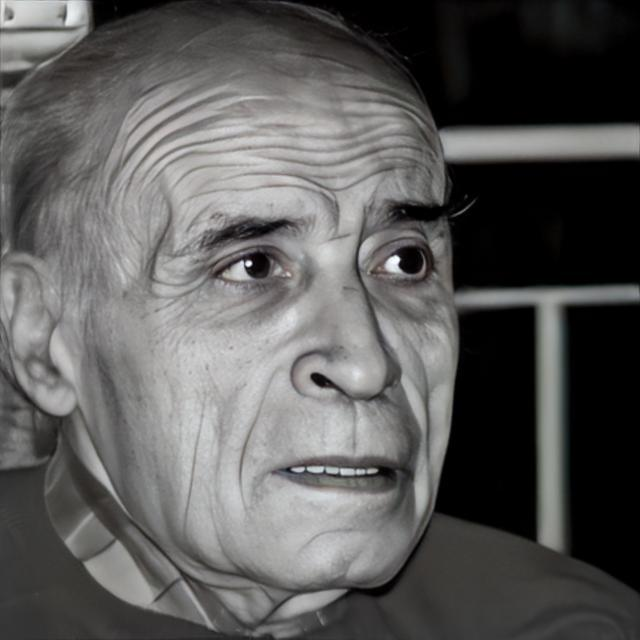fear: (76, 0, 462, 591)
